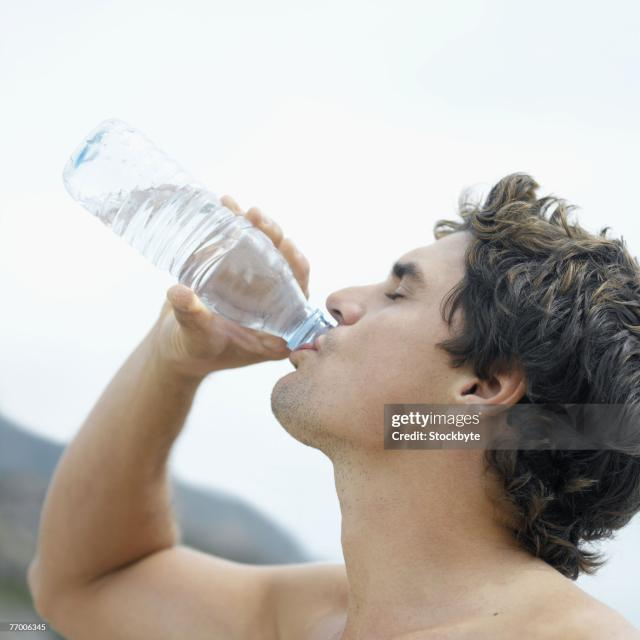bottle: (64, 120, 337, 357)
